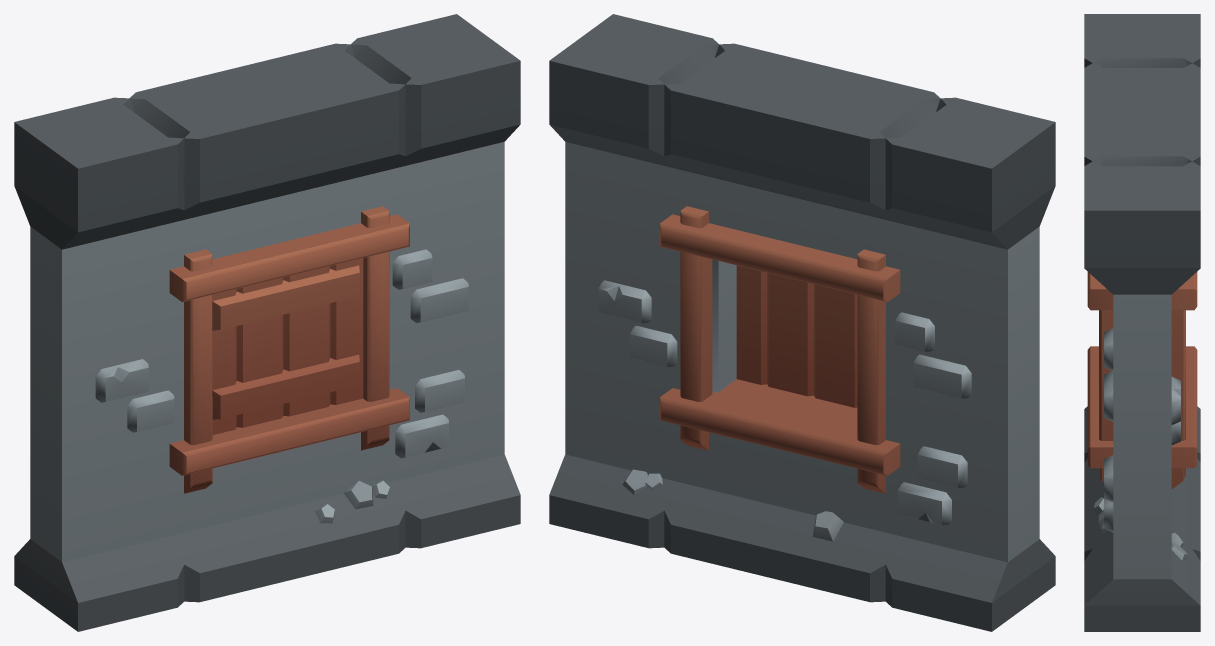
File: wall_window_closed.gltf
3 renders of one model, left to right at view 1: azimuth 30°, elevation 25°; view 2: azimuth 150°, elevation 25°; view 3: azimuth 270°, elevation 25°, orthographic. The views are drawn at different scales.
Visible parts, largest first — view 1: wall_window_closed; view 2: wall_window_closed; view 3: wall_window_closed.
Part boxes in pixels (x1,y1,x2,y2): wall_window_closed: (14, 14, 520, 631); wall_window_closed: (549, 14, 1055, 631); wall_window_closed: (1084, 14, 1200, 631).
Bounding box in the file's own units: 4 × 4 × 1.
Materials: 1 (1 with a texture image).
